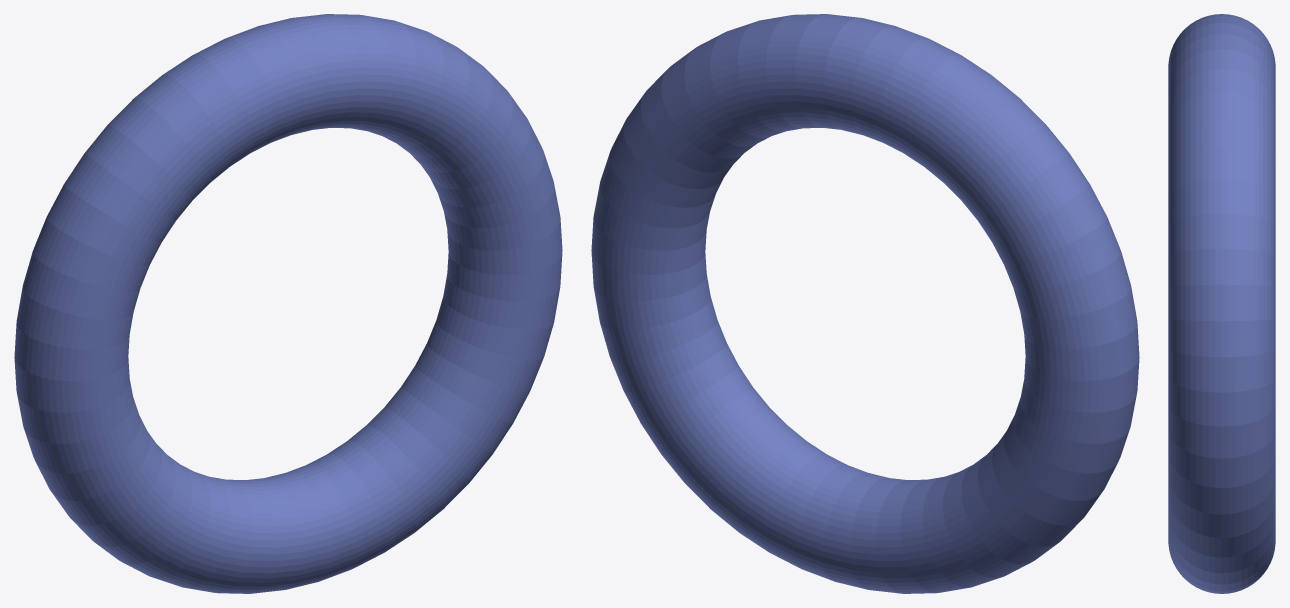
The picture shows the model from 3 angles, left to right: view 1: azimuth 30°, elevation 25°; view 2: azimuth 150°, elevation 25°; view 3: azimuth 270°, elevation 25°; orthographic projection. The views are drawn at different scales.
Parts seen in each view (by area): view 1: world; view 2: world; view 3: world.
Boxes of the visible parts, <box> form: world: <box>14,14,562,593</box>; world: <box>591,14,1139,593</box>; world: <box>1168,14,1275,593</box>.
Bounding box in the file's own units: 18 × 17.96 × 3.33.
